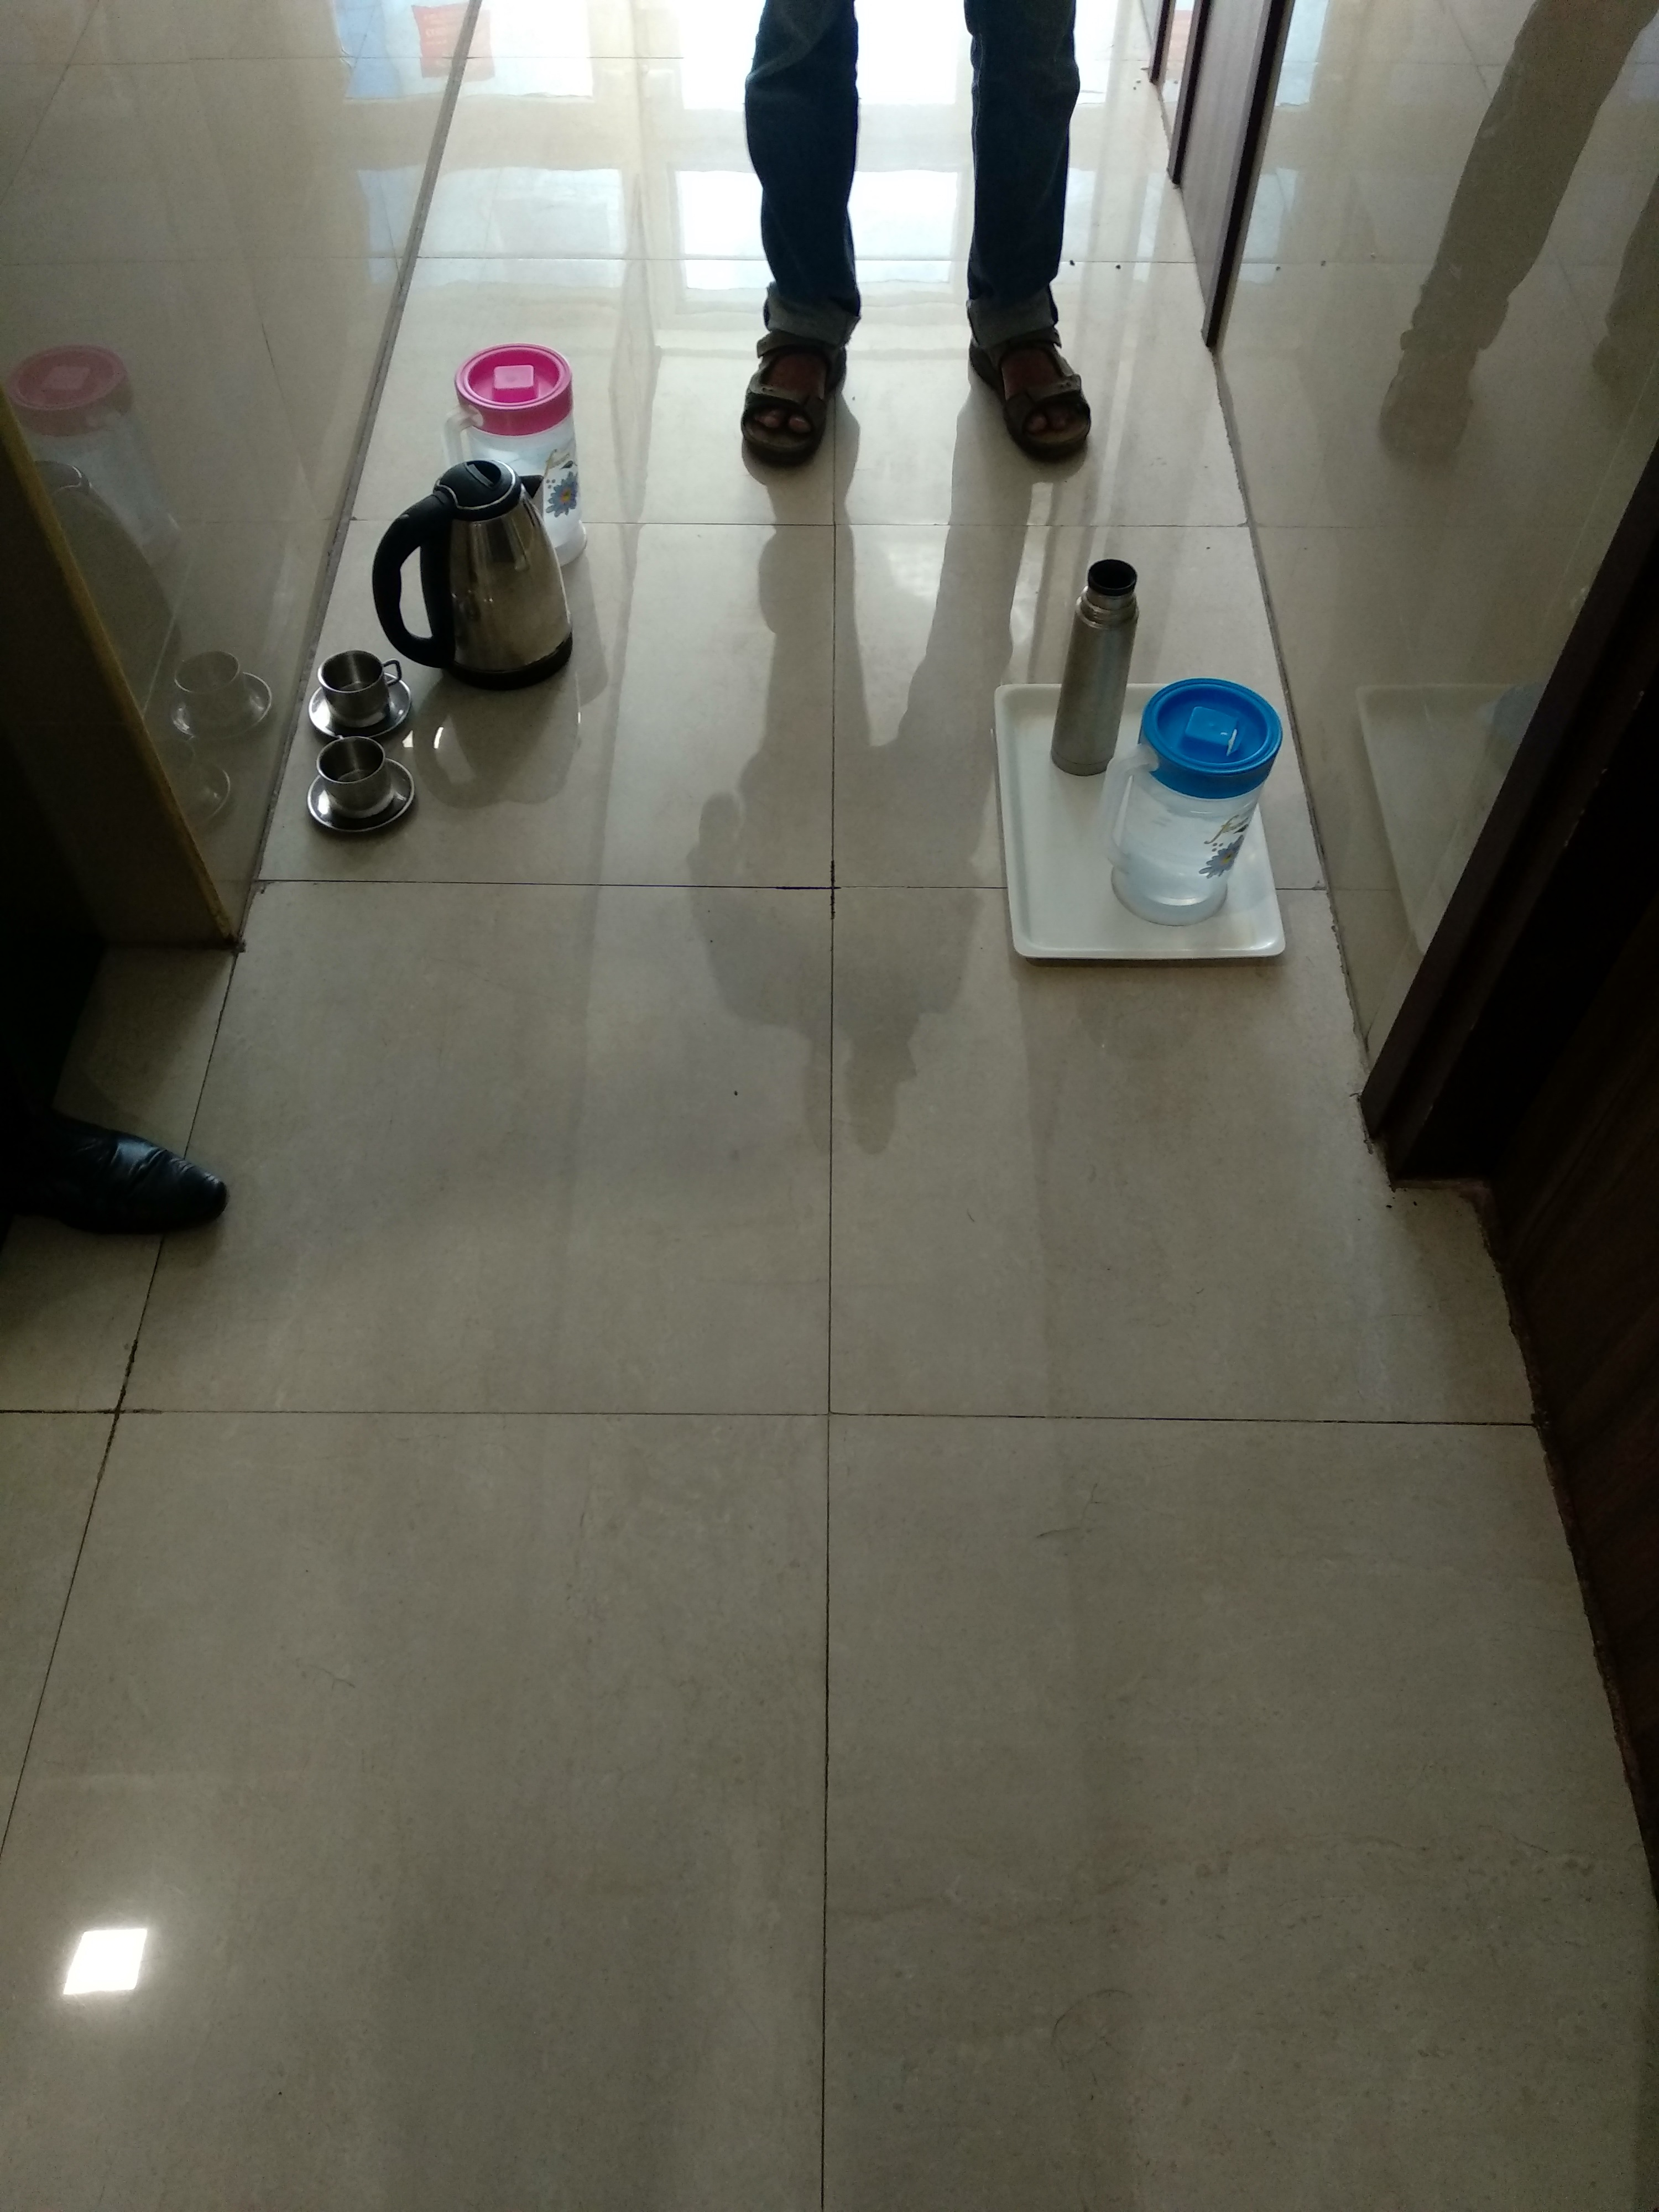CUP: (305, 733, 427, 848), (300, 641, 416, 730)
FLASK: (1053, 543, 1138, 787)
JUG: (368, 446, 594, 681), (1105, 662, 1283, 925), (432, 334, 584, 455)
